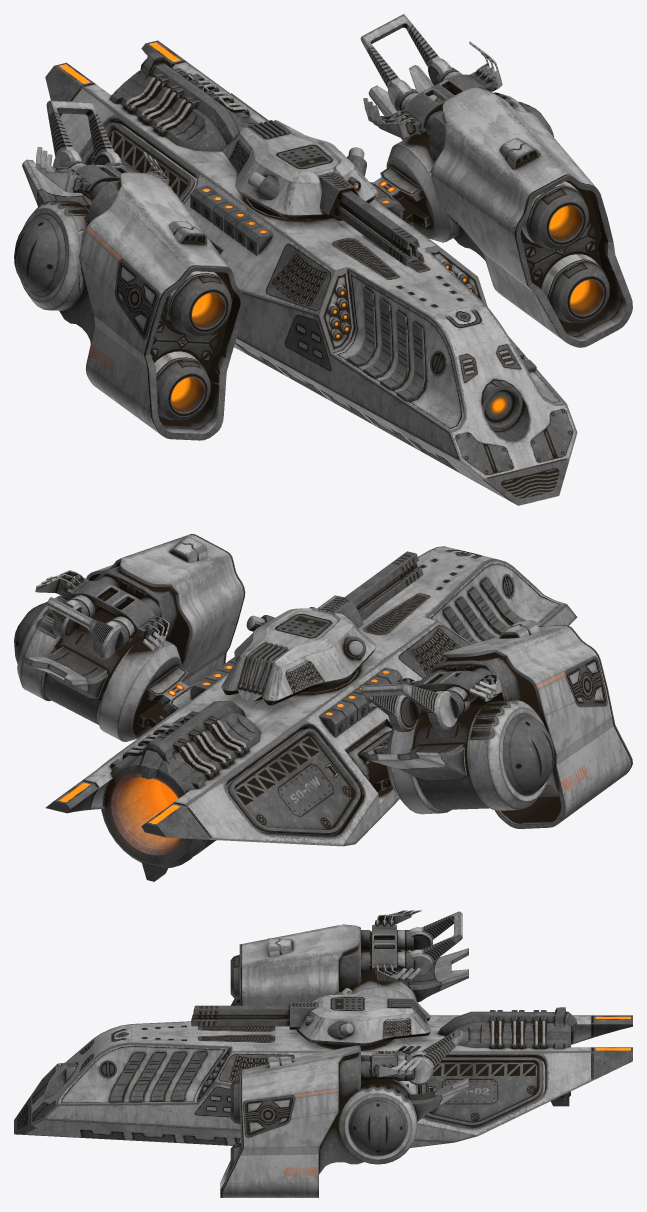
File: space_ship.gltf
3 views of the same model, one above another, from view 1: azimuth 30°, elevation 25°; view 2: azimuth 150°, elevation 25°; view 3: azimuth 270°, elevation 25° (orthographic). The views are drawn at different scales.
Visible parts, largest first — view 1: c_low, e_low, a_low, h_low, d_low, i_low, b_low, l_low, f_low, j_low, g_low, k_low; view 2: c_low, e_low, i_low, h_low, b_low, a_low, d_low, l_low, k_low, j_low, f_low, g_low; view 3: e_low, c_low, h_low, b_low, a_low, i_low, d_low, l_low, f_low, g_low, j_low.
Boxes of the visible parts, x1,y1,x2,y2 form: c_low: (20,14,632,440); e_low: (45,40,577,505); a_low: (35,41,601,416); h_low: (222,120,377,219); d_low: (190,185,536,401); i_low: (109,52,258,151); b_low: (59,72,496,343); l_low: (14,101,553,295); f_low: (247,147,424,266); j_low: (123,68,249,136); g_low: (247,120,366,220); k_low: (216,166,430,254); c_low: (17,534,632,828); e_low: (45,546,577,846); i_low: (101,701,261,868); h_low: (221,608,376,705); b_low: (62,566,559,797); a_low: (35,536,540,719); d_low: (190,578,525,737); l_low: (14,602,554,795); k_low: (137,666,392,791); j_low: (123,711,249,881); f_low: (246,551,423,656); g_low: (238,596,365,694); e_low: (14,1015,632,1147); c_low: (220,911,468,1197); h_low: (296,993,430,1045); b_low: (319,923,396,1174); a_low: (268,910,421,1080); i_low: (437,1007,577,1099); d_low: (110,1052,371,1103); l_low: (348,1098,407,1155); f_low: (191,988,353,1035); g_low: (289,991,427,1049); j_low: (490,1010,569,1106).
Bounding box in the file's own units: 12.38 × 4.81 × 17.53.
3 materials, 3 textured.
